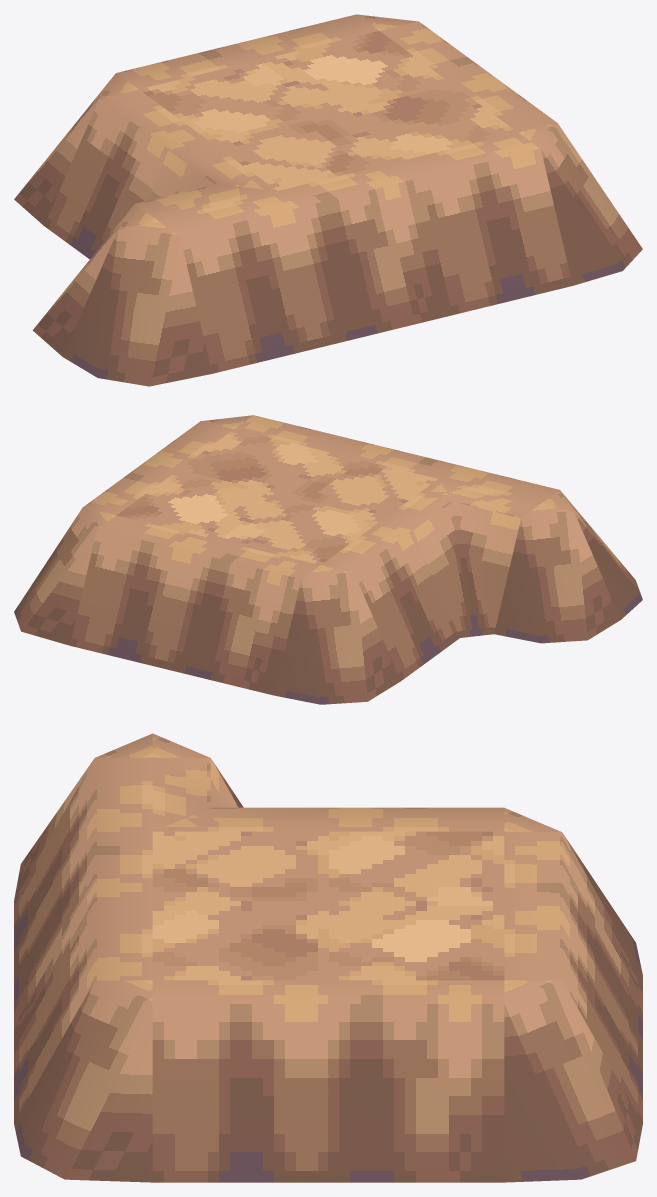
The picture shows the model from 3 angles, top to bottom: view 1: azimuth 30°, elevation 25°; view 2: azimuth 150°, elevation 25°; view 3: azimuth 270°, elevation 25°; orthographic projection. The views are drawn at different scales.
Size of the model in its own units: 4.58 by 0.9014 by 3.58.
Materials: 2 (2 with a texture image).
